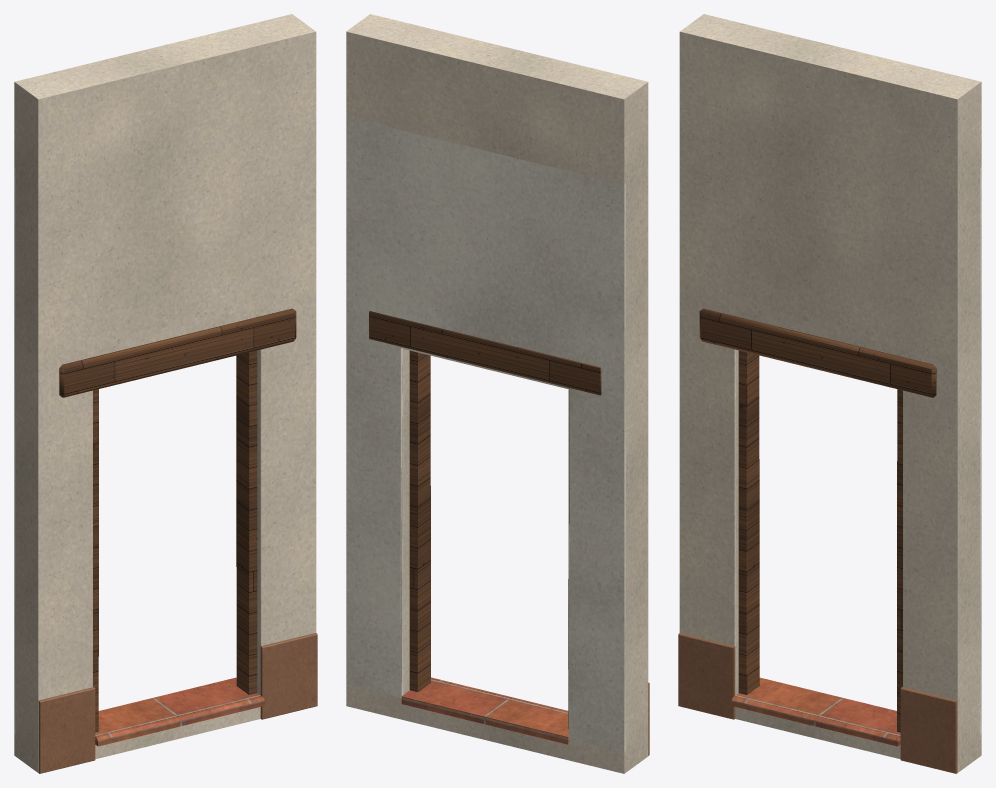
File: m_wall_door.glb
3 views of the same model, side by side, from view 1: azimuth 30°, elevation 25°; view 2: azimuth 150°, elevation 25°; view 3: azimuth 330°, elevation 25° (orthographic).
Parts seen in each view (by area): view 1: m_wall_door_render, m_wall_door_wood, m_wall_door_plinth, m_wall_door_saltillo, m_wall_door_plaster; view 2: m_wall_door_plaster, m_wall_door_render, m_wall_door_wood, m_wall_door_saltillo; view 3: m_wall_door_render, m_wall_door_wood, m_wall_door_plinth, m_wall_door_saltillo, m_wall_door_plaster.
Boxes of the visible parts, box(x1,y1,x2,y2) form: m_wall_door_render: box(14, 14, 316, 772); m_wall_door_wood: box(59, 308, 296, 732); m_wall_door_plinth: box(38, 633, 317, 773); m_wall_door_saltillo: box(95, 677, 264, 746); m_wall_door_plaster: box(14, 167, 15, 734); m_wall_door_plaster: box(346, 117, 625, 751); m_wall_door_render: box(346, 14, 648, 773); m_wall_door_wood: box(369, 311, 601, 728); m_wall_door_saltillo: box(401, 677, 569, 744); m_wall_door_render: box(679, 14, 981, 772); m_wall_door_wood: box(699, 308, 936, 732); m_wall_door_plinth: box(678, 633, 957, 773); m_wall_door_saltillo: box(731, 677, 900, 746); m_wall_door_plaster: box(980, 167, 981, 734).
Bounding box in the file's own units: 2 × 4.64 × 0.355.
5 materials, 5 textured.
